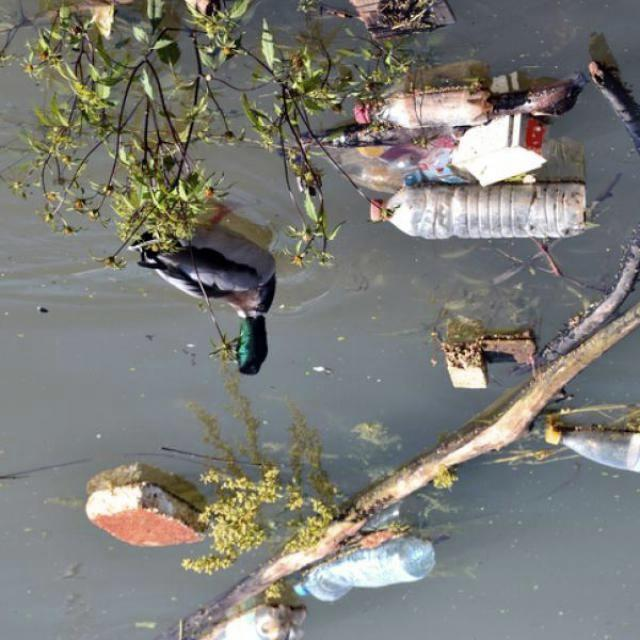Plastic: (366, 182, 595, 240), (288, 538, 440, 603), (447, 109, 566, 187), (340, 82, 497, 127), (542, 416, 640, 474)
